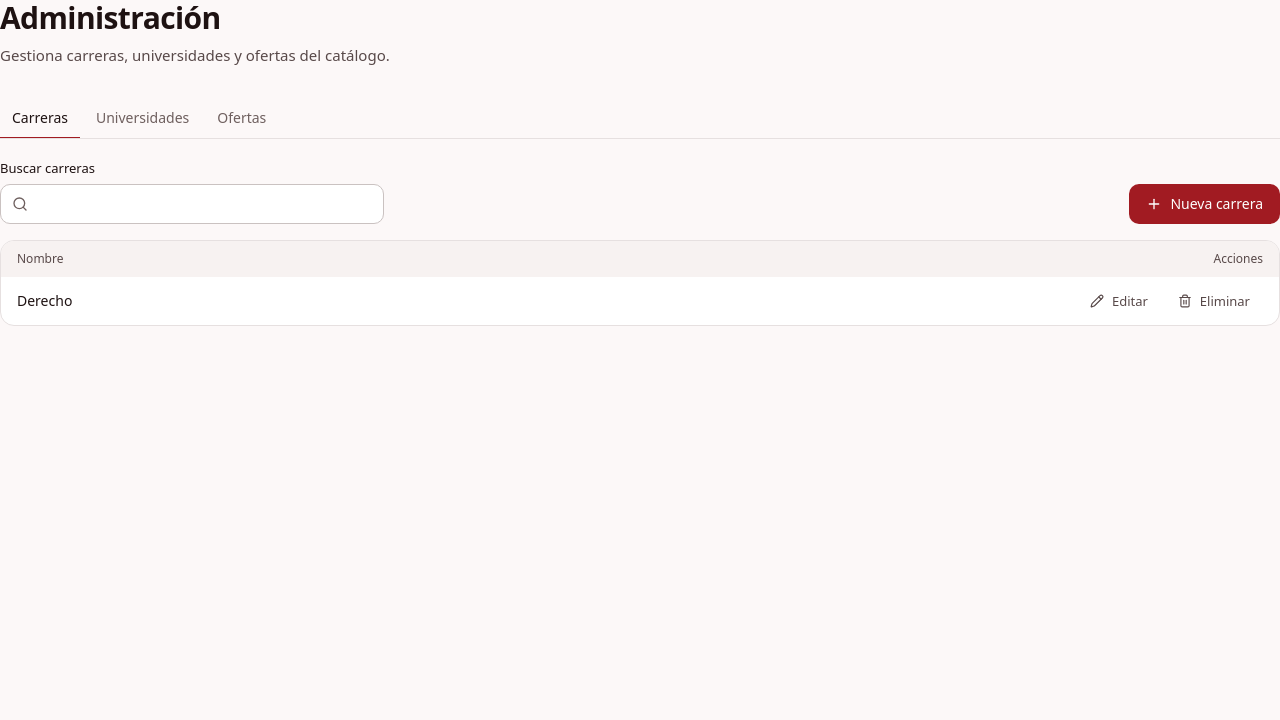
it: Admin › muestra el error 409 dentro del formulario
This screenshot has width=1280, height=720.
Click the button "Nueva carrera" at (1205, 204), box top-left (1129, 184), bottom-right (1279, 224)
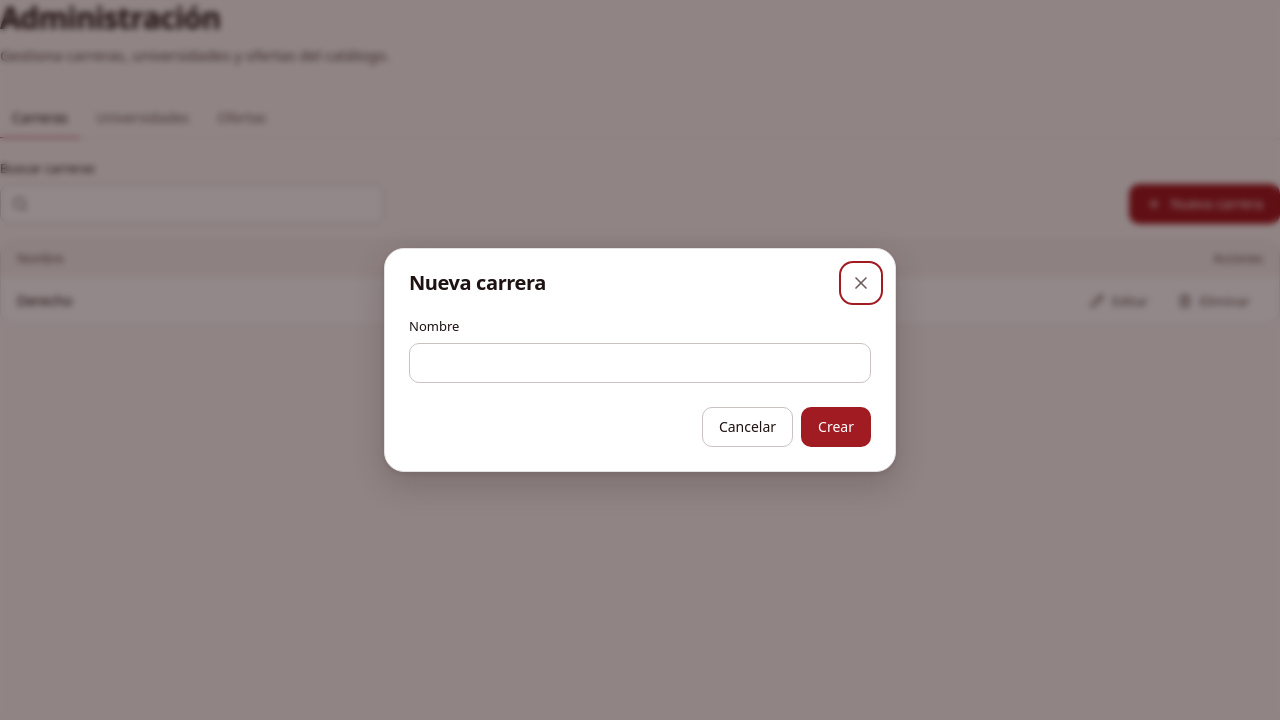
Type "Derecho" into the field labelled "Nombre" at (640, 363), box top-left (409, 343), bottom-right (871, 383)
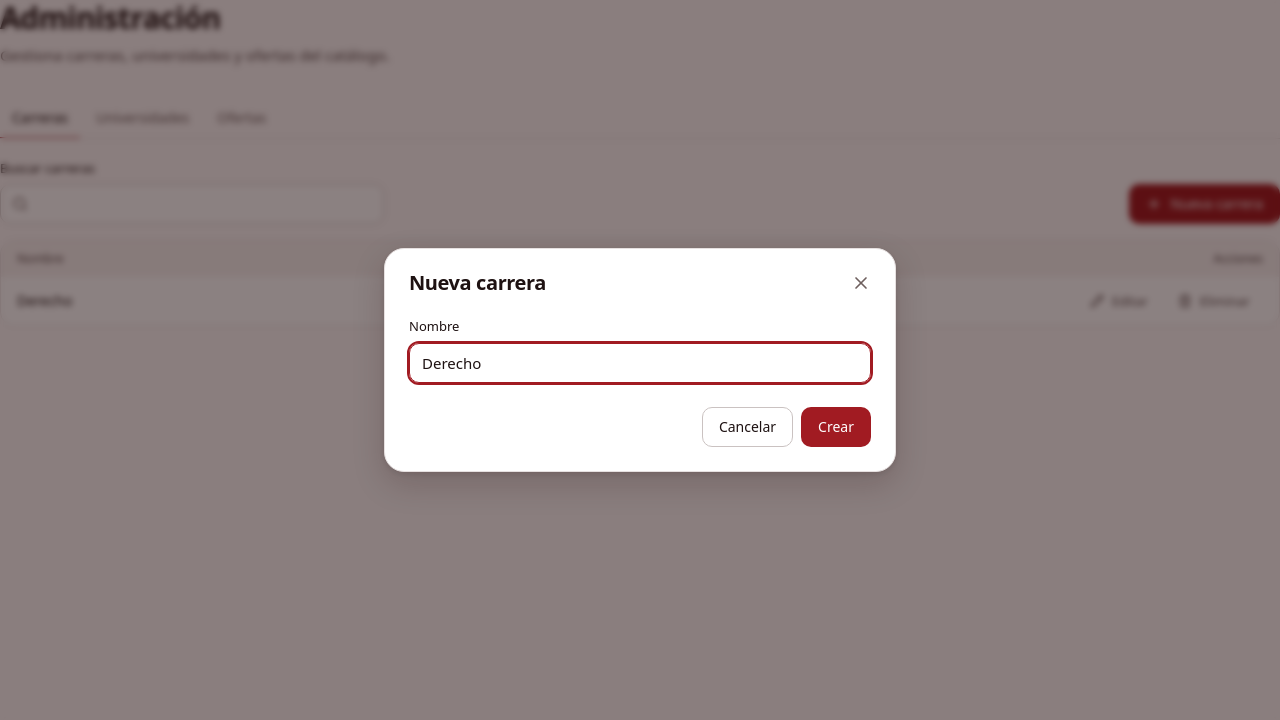
Click the button "Crear" at (836, 427), box top-left (801, 407), bottom-right (871, 447)
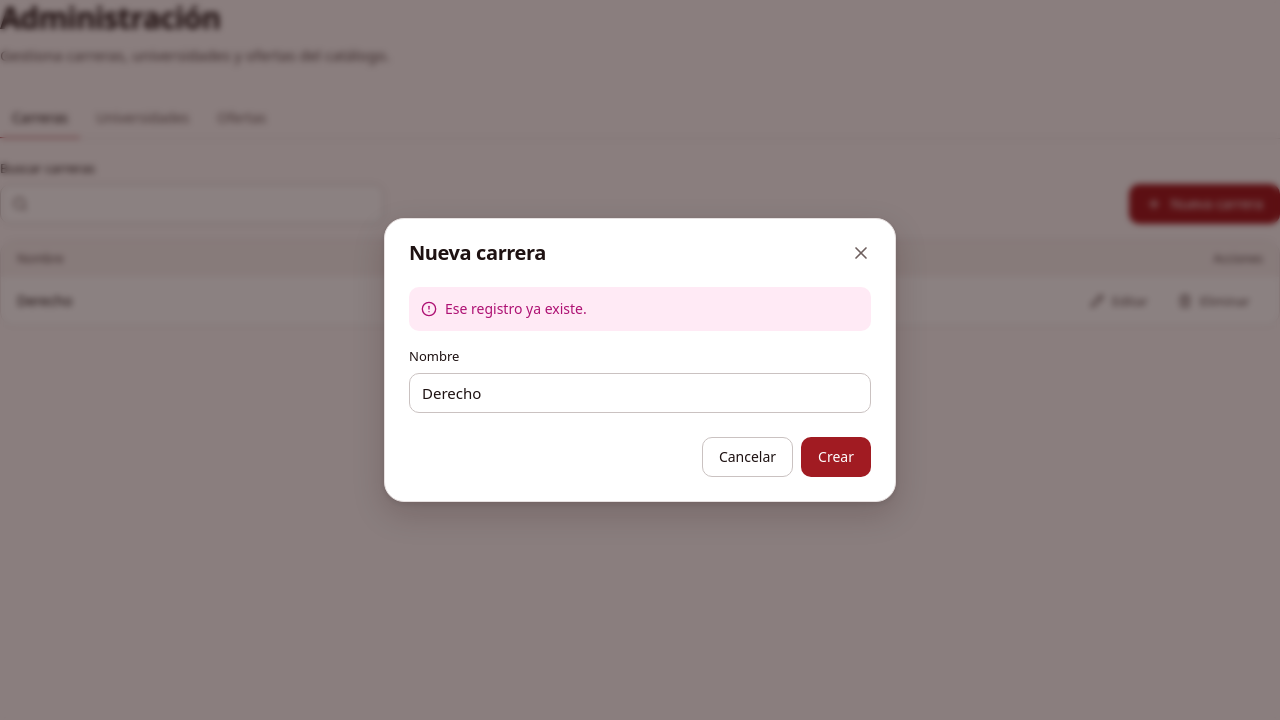
Expected: the message reads "Ese registro ya existe.", top-left (445, 299), bottom-right (587, 318)
